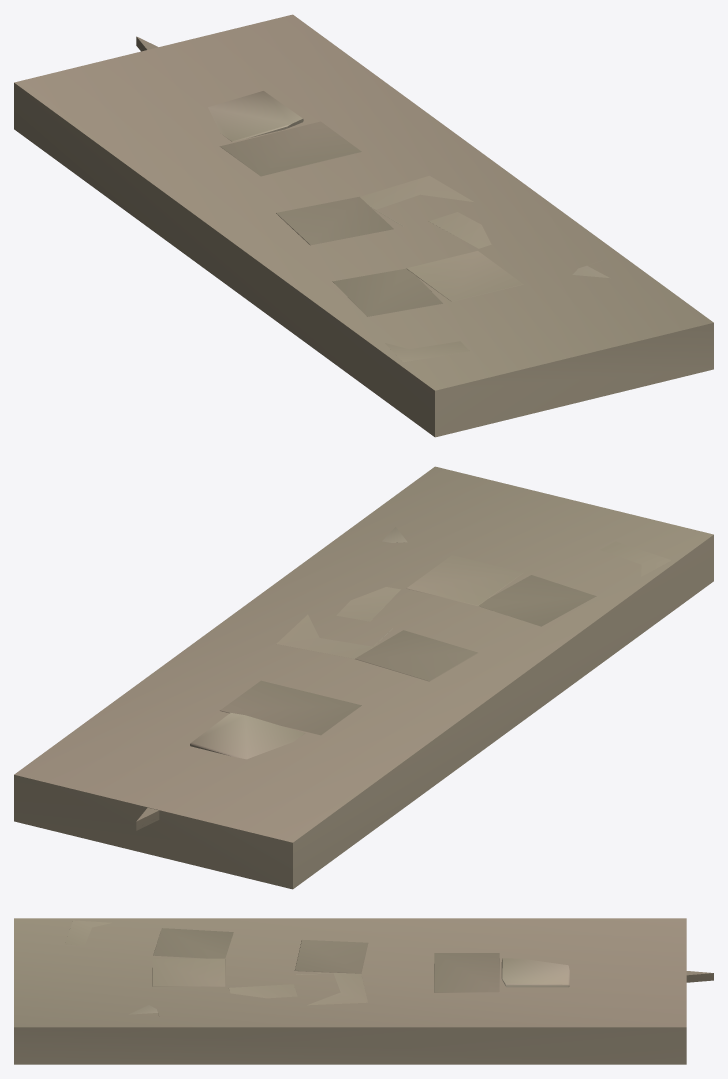
Rendered from dome_floor_bp1.glb.
3 views of the same model, one above another, from view 1: azimuth 30°, elevation 25°; view 2: azimuth 150°, elevation 25°; view 3: azimuth 270°, elevation 25° (orthographic). The views are drawn at different scales.
Parts seen in each view (by area): view 1: dome_floor_bp1_far, dome_floor_bp1; view 2: dome_floor_bp1_far, dome_floor_bp1; view 3: dome_floor_bp1_far, dome_floor_bp1.
Part boxes in pixels (<box>): dome_floor_bp1_far: <box>14,14,713,437</box>; dome_floor_bp1: <box>136,36,609,362</box>; dome_floor_bp1_far: <box>14,466,713,889</box>; dome_floor_bp1: <box>136,527,671,830</box>; dome_floor_bp1_far: <box>14,918,686,1064</box>; dome_floor_bp1: <box>65,920,713,1014</box>.
Bounding box in the file's own units: 18.74 × 3.26 × 51.
